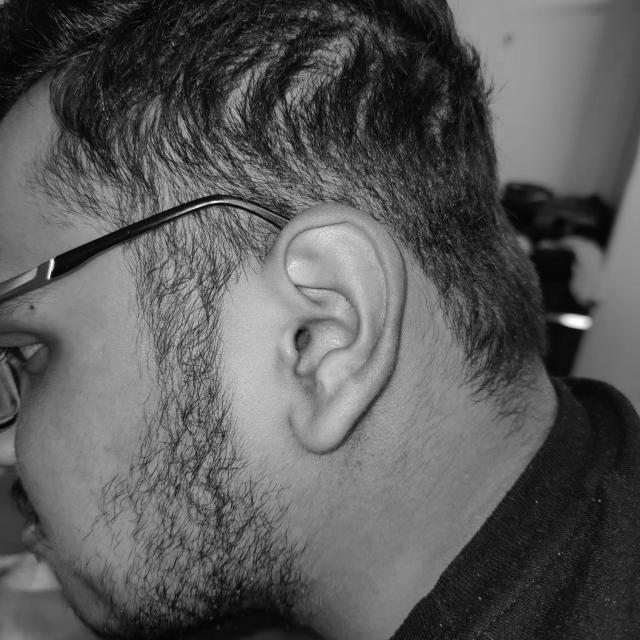ear: (260, 203, 403, 452)
